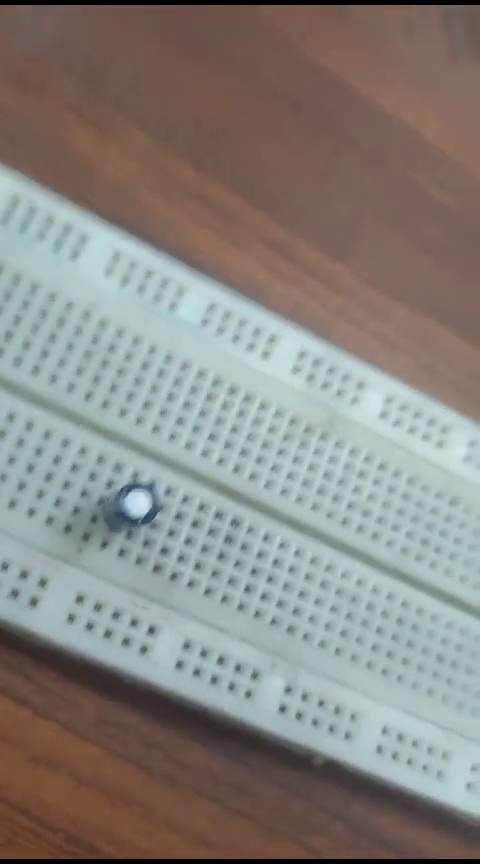capacitor: (100, 480, 174, 533)
